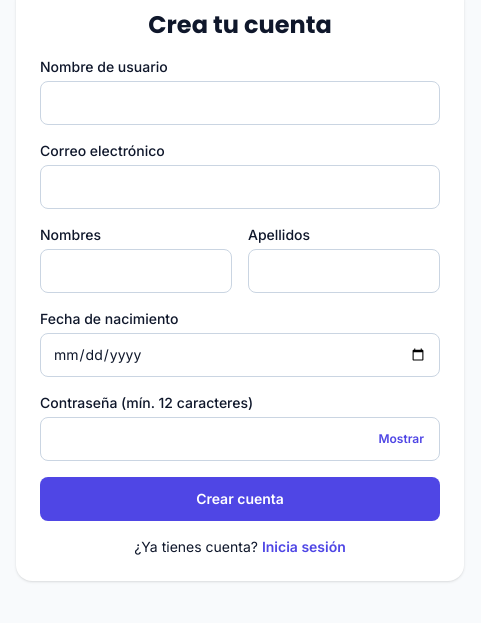
Test: Registro › contraseña de 11 caracteres → error y 0 peticiones
The image size is (481, 623).
In the field labelled "Nombre de usuario": {"x": 240, "y": 103} [40, 81, 440, 125], type "andrea"
In the field labelled "Correo electrónico": {"x": 240, "y": 187} [40, 165, 440, 209], type "andrea@example.test"
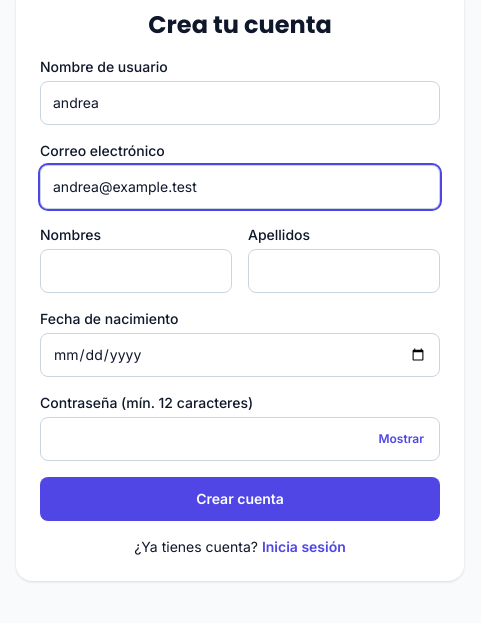
In the field labelled "Nombres": {"x": 136, "y": 271} [40, 249, 232, 293], type "Andrea"
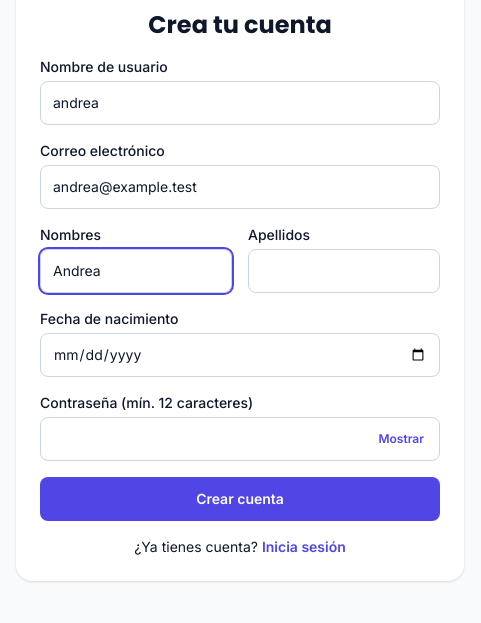
In the field labelled "Apellidos": {"x": 344, "y": 271} [248, 249, 440, 293], type "Ruiz"
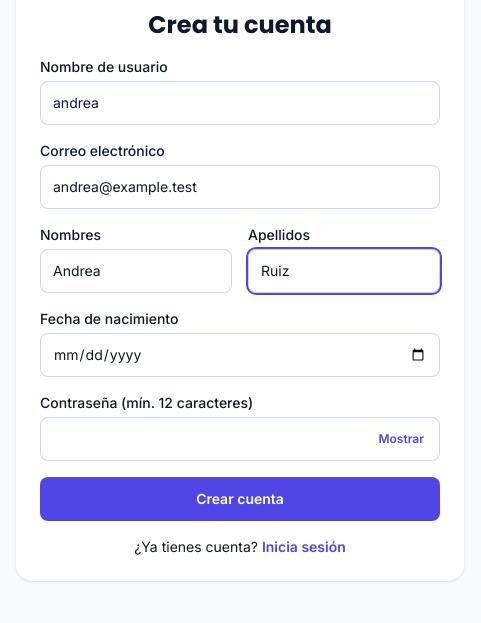
In the date field labelled "Fecha de nacimiento": {"x": 240, "y": 355} [40, 333, 440, 377], type "1998-04-12"
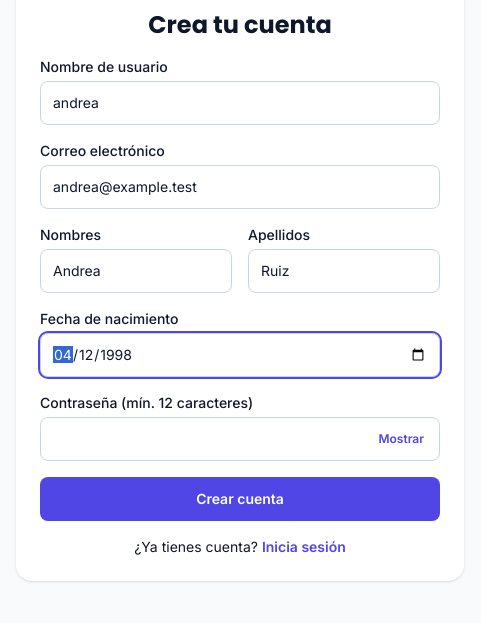
In the password field labelled "Contraseña (mín. 12 caracteres)": {"x": 240, "y": 439} [40, 417, 440, 461], type "12345678901"
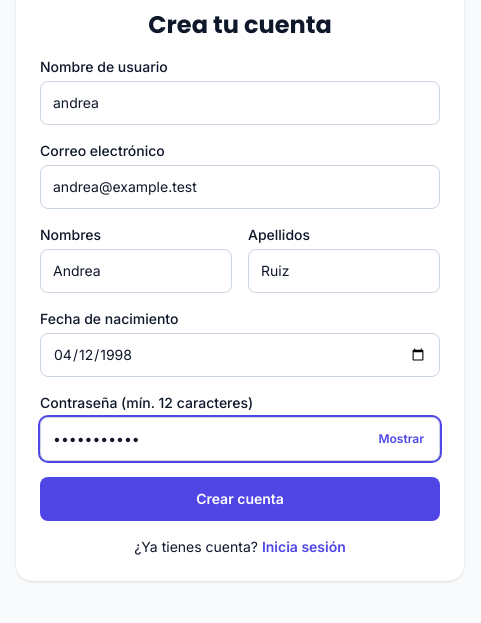
Click the button "Crear cuenta": {"x": 240, "y": 499} [40, 477, 440, 521]
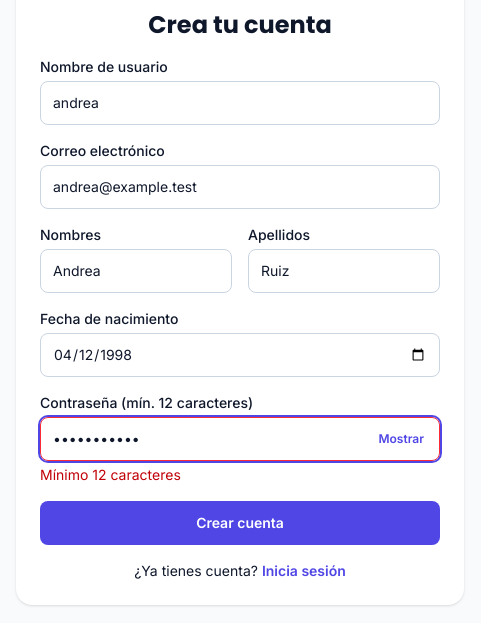
Result: the text "Mínimo 12 caracteres" is shown at [40, 466, 181, 483]
